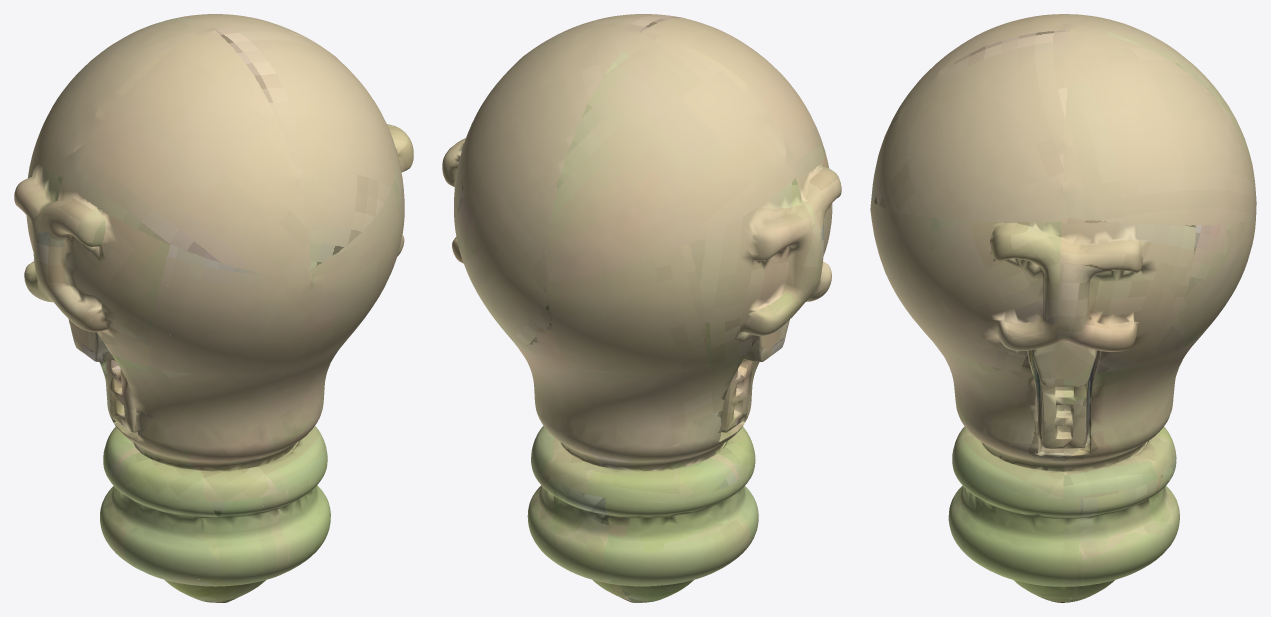
Rendered from prop_bulb.glb.
The picture shows the model from 3 angles, left to right: view 1: azimuth 30°, elevation 25°; view 2: azimuth 150°, elevation 25°; view 3: azimuth 270°, elevation 25°; orthographic projection.
Parts seen in each view (by area): view 1: tripo_node_eb6fe34e-7ee6-4436-bafa-c0c62dbf3d8c; view 2: tripo_node_eb6fe34e-7ee6-4436-bafa-c0c62dbf3d8c; view 3: tripo_node_eb6fe34e-7ee6-4436-bafa-c0c62dbf3d8c.
Part boxes in pixels (box(x1,y1,x2,y2)): tripo_node_eb6fe34e-7ee6-4436-bafa-c0c62dbf3d8c: box(14, 14, 413, 602); tripo_node_eb6fe34e-7ee6-4436-bafa-c0c62dbf3d8c: box(442, 14, 841, 602); tripo_node_eb6fe34e-7ee6-4436-bafa-c0c62dbf3d8c: box(870, 14, 1256, 602).
Bounding box in the file's own units: 0.6467 × 0.9817 × 0.6063.
1 material, 1 textured.
